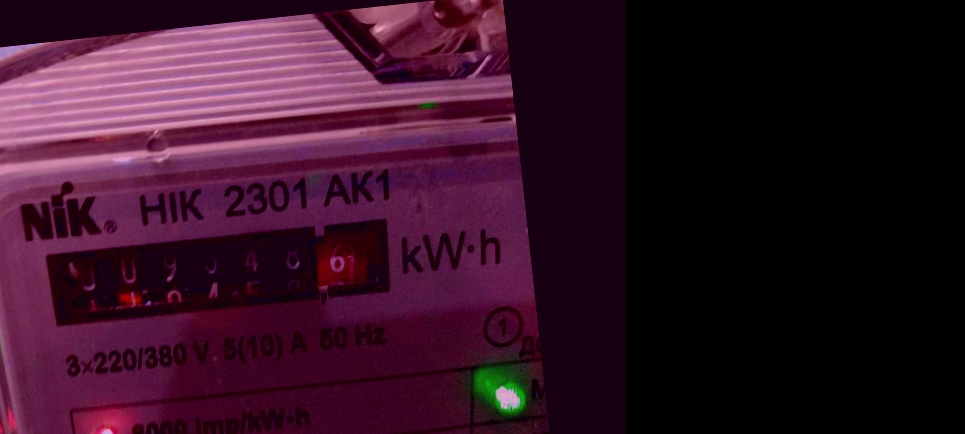0: (115, 250, 140, 288), (74, 257, 98, 294)
3: (197, 242, 222, 276)
4: (236, 238, 261, 277)
6: (324, 238, 349, 275)
8: (279, 235, 303, 271)
9: (158, 247, 179, 283)
screen: (20, 201, 414, 344)
